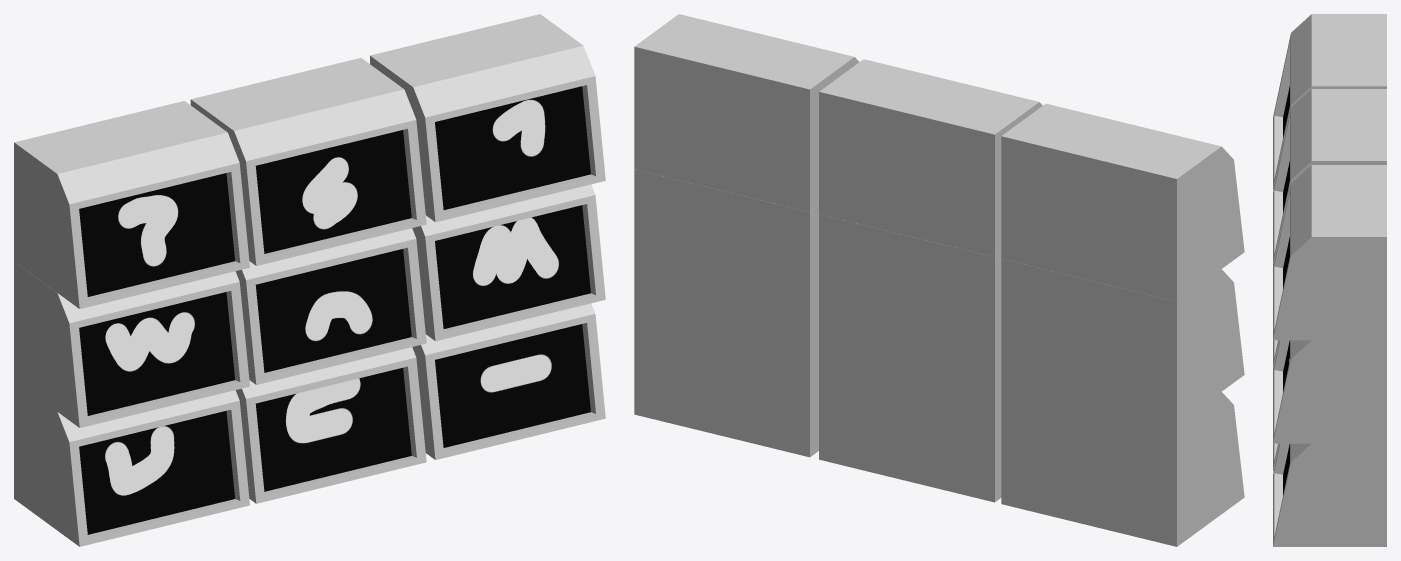
File: imagenes.fbx
The picture shows the model from 3 angles, left to right: view 1: azimuth 30°, elevation 25°; view 2: azimuth 150°, elevation 25°; view 3: azimuth 270°, elevation 25°; orthographic projection. The views are drawn at different scales.
Parts seen in each view (by area): view 1: Cube.029, Cube.028, Cube.027, Cube.024, Cube.021, Cube.023, Cube.026, Cube.022, Cube.025; view 2: Cube.029, Cube.028, Cube.027, Cube.024, Cube.021, Cube.023, Cube.026, Cube.022, Cube.025; view 3: Cube.028, Cube.023, Cube.026, Cube.027, Cube.029.
Part boxes in pixels (x1,y1,x2,y2): Cube.029: (14,101,249,308); Cube.028: (370,14,605,222); Cube.027: (190,58,426,265); Cube.024: (14,261,249,427); Cube.021: (14,380,249,546); Cube.023: (412,184,605,341); Cube.026: (412,303,605,459); Cube.022: (235,228,426,384); Cube.025: (235,347,426,503); Cube.029: (1001,103,1244,301); Cube.028: (634,14,859,211); Cube.027: (819,59,1042,257); Cube.024: (1001,259,1244,424); Cube.021: (1001,381,1244,546); Cube.023: (634,169,818,334); Cube.026: (634,292,818,457); Cube.022: (819,214,1001,379); Cube.025: (819,337,1001,502); Cube.028: (1273,165,1386,340); Cube.023: (1273,340,1386,443); Cube.026: (1273,443,1386,546); Cube.027: (1273,89,1386,264); Cube.029: (1273,14,1386,189).
Size of the model in its own units: 20 by 92.66 by 60.02.
